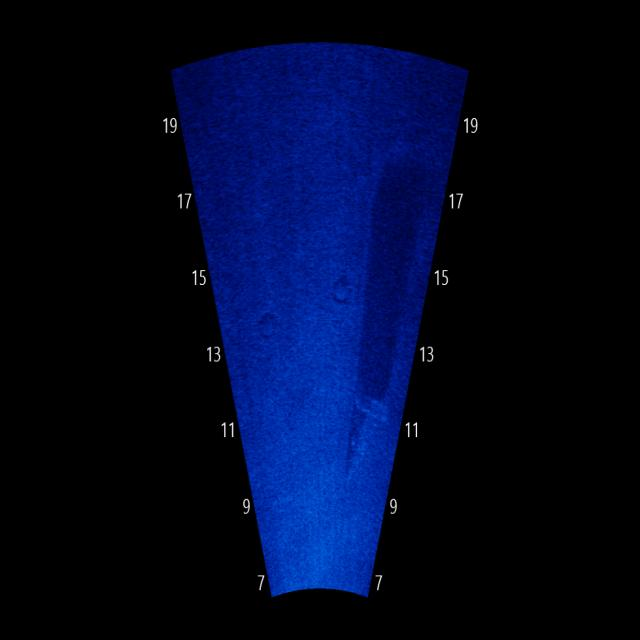triangle: (336, 376, 388, 480)
